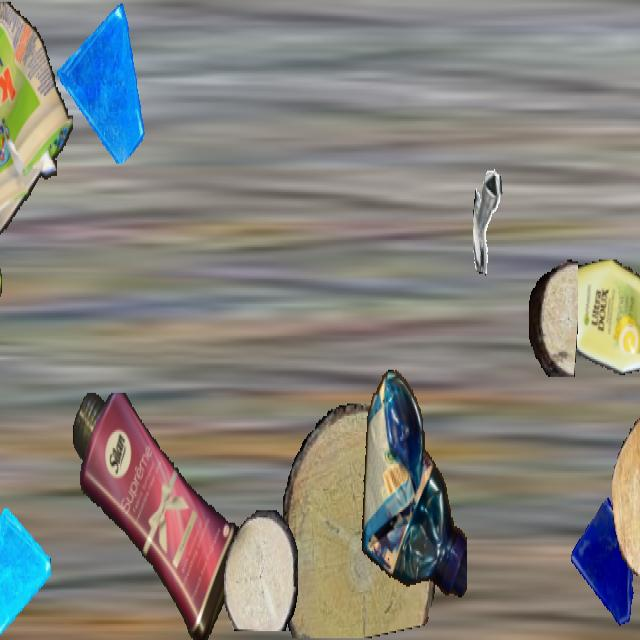glass: (57, 2, 147, 162), (569, 498, 640, 636), (0, 507, 50, 638)
metal: (473, 169, 535, 279)
plastic: (72, 393, 244, 638), (358, 366, 466, 608), (0, 2, 73, 247), (552, 259, 640, 377), (0, 100, 3, 334)
wood: (279, 404, 439, 638), (224, 510, 298, 631), (529, 258, 577, 375), (612, 409, 640, 576)
